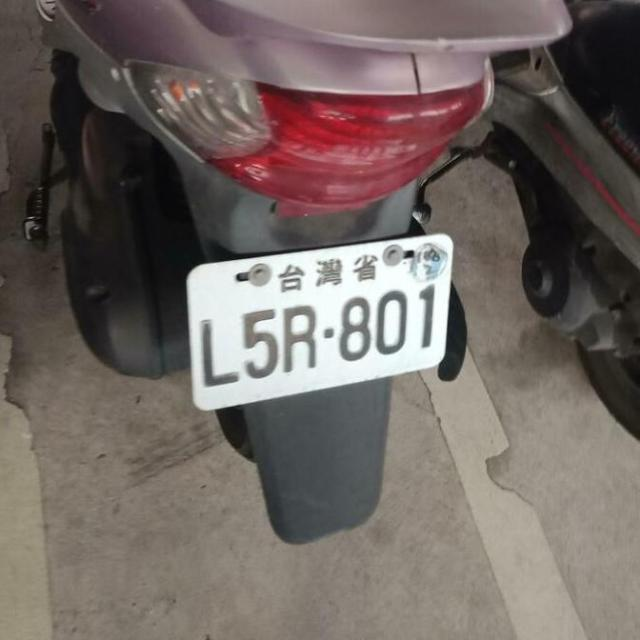W: (174, 227, 463, 414)
